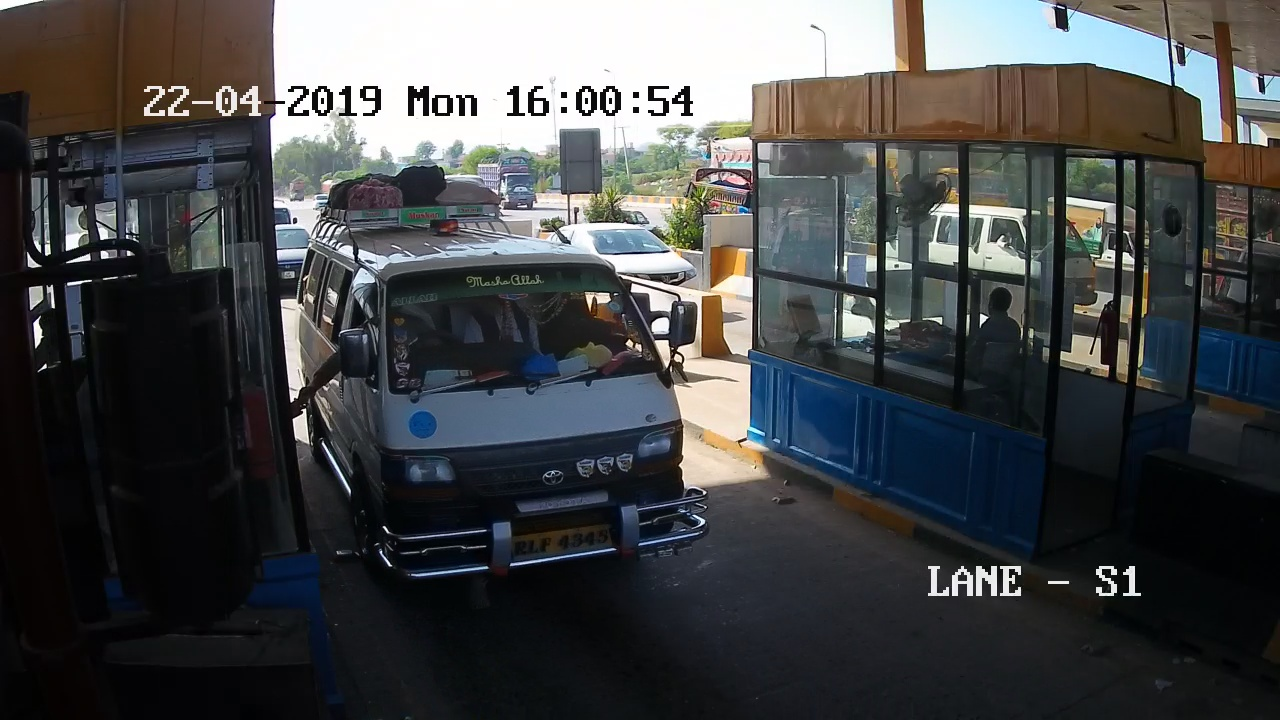car: (295, 170, 736, 622)
